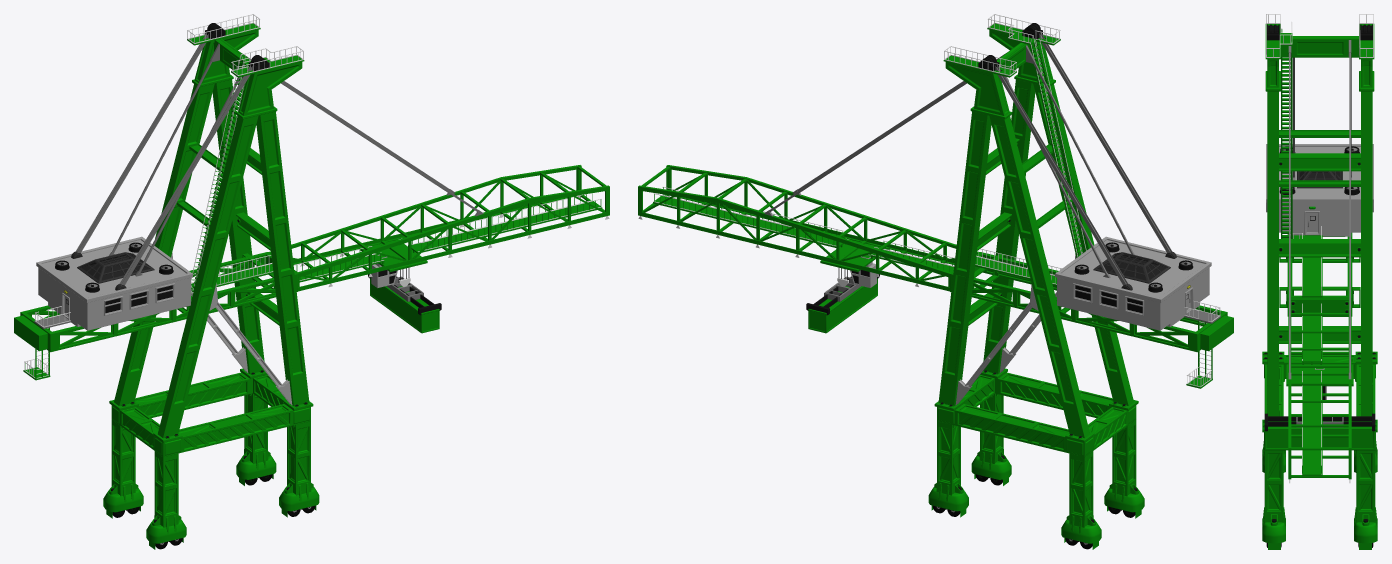
File: diaohji.fbx
The picture shows the model from 3 angles, left to right: view 1: azimuth 30°, elevation 25°; view 2: azimuth 150°, elevation 25°; view 3: azimuth 270°, elevation 25°; orthographic projection. The views are drawn at different scales.
Visible parts, largest first — view 1: desirefx_me_001; view 2: desirefx_me_001; view 3: desirefx_me_001.
Part boxes in pixels (bbox=[...]): desirefx_me_001: bbox=[14, 14, 609, 549]; desirefx_me_001: bbox=[638, 14, 1233, 549]; desirefx_me_001: bbox=[1262, 14, 1377, 549].
Size of the model in its own units: 38.79 by 30.34 by 6.38.
